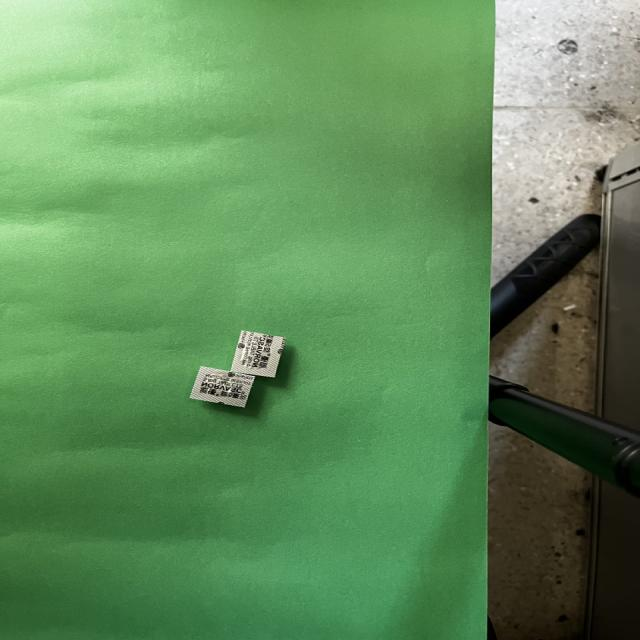Other Objects: (191, 367, 254, 407), (232, 331, 285, 377)
